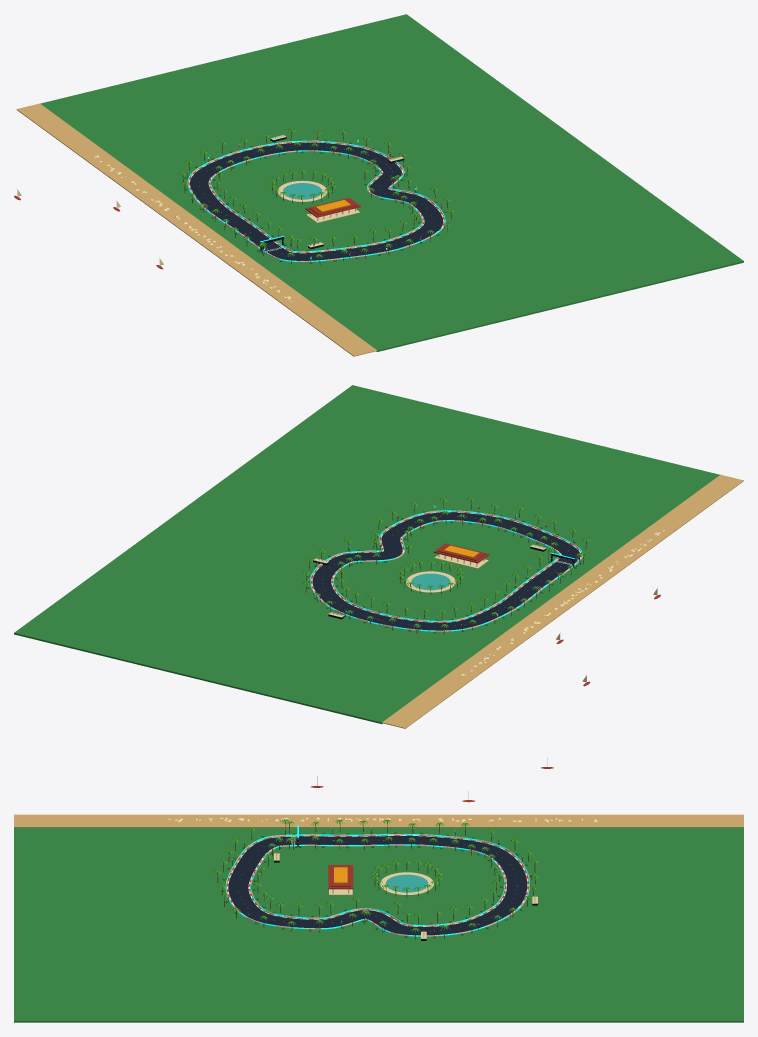
Rendered from lotus_coast.glb.
3 renders of one model, top to bottom at view 1: azimuth 30°, elevation 25°; view 2: azimuth 150°, elevation 25°; view 3: azimuth 270°, elevation 25°, orthographic. The views are drawn at different scales.
Visible parts, largest first — view 1: LotusCoast_Static; view 2: LotusCoast_Static; view 3: LotusCoast_Static.
Part boxes in pixels (x1,y1,x2,y2): LotusCoast_Static: [14, 14, 743, 356]; LotusCoast_Static: [14, 385, 743, 728]; LotusCoast_Static: [14, 757, 743, 1022].
Bounding box in the file's own units: 536 × 14.28 × 650.
